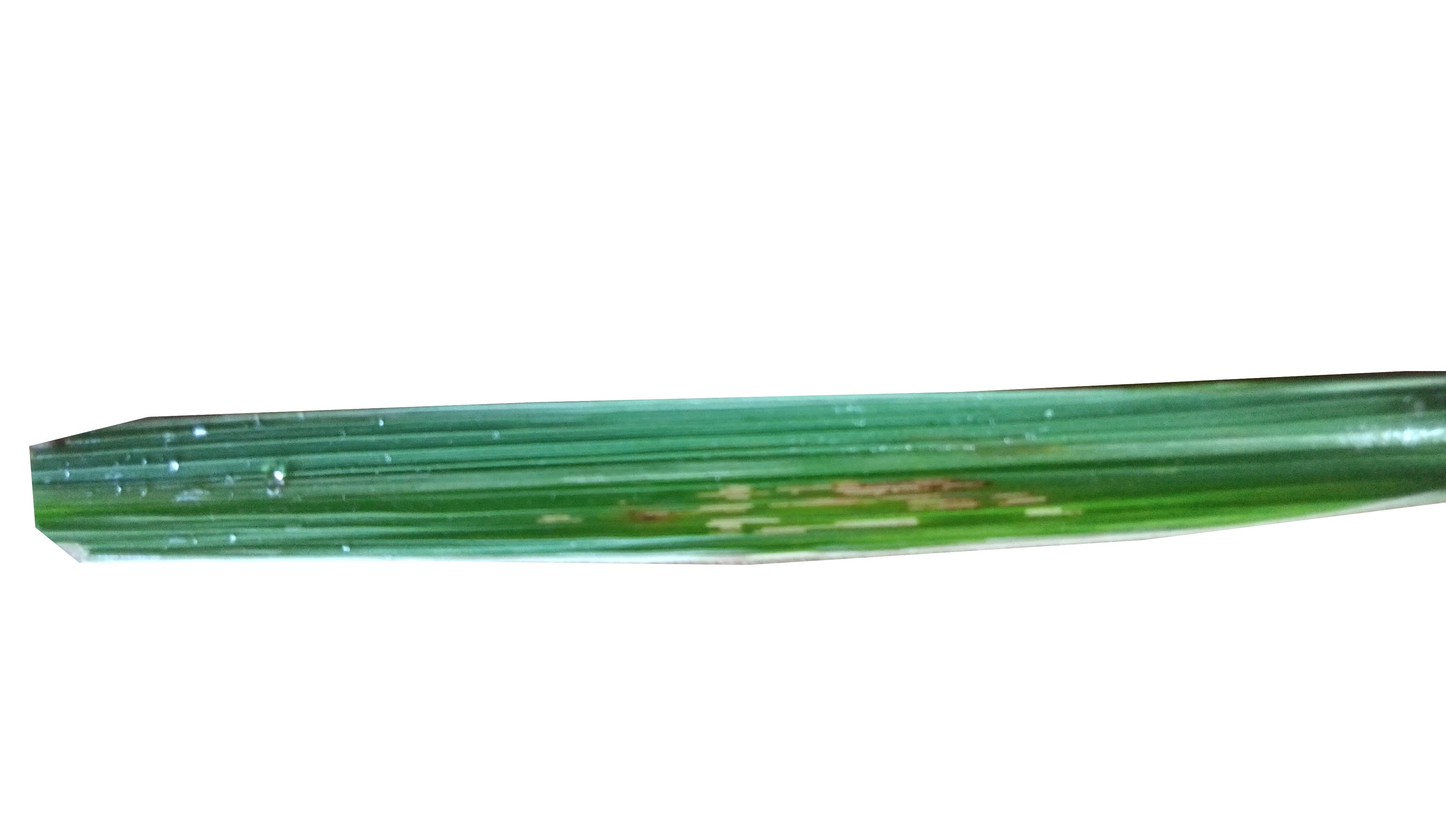Blight: (641, 469, 1055, 539), (546, 445, 676, 530)
